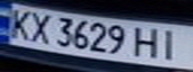2: (87, 20, 109, 54)
3: (51, 15, 75, 48)
6: (69, 17, 90, 52)
9: (106, 22, 133, 56)
H: (130, 25, 166, 60)
I: (154, 27, 187, 61)
K: (3, 6, 36, 42)
X: (24, 10, 54, 45)
